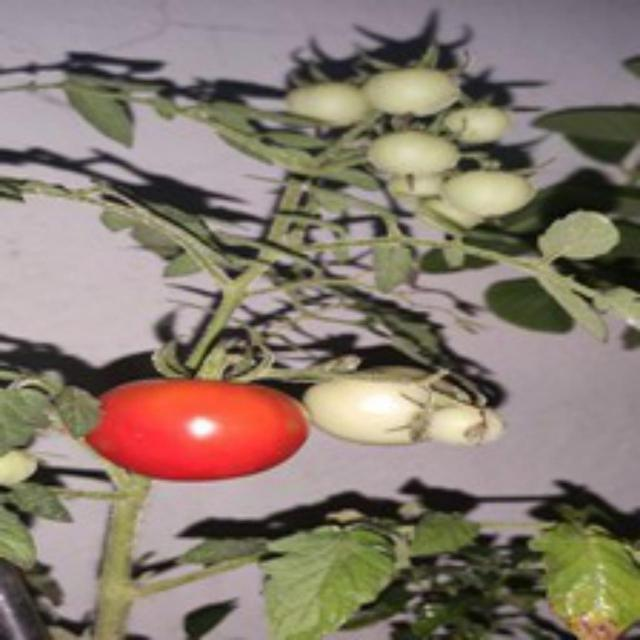tomato: (68, 368, 311, 492)
